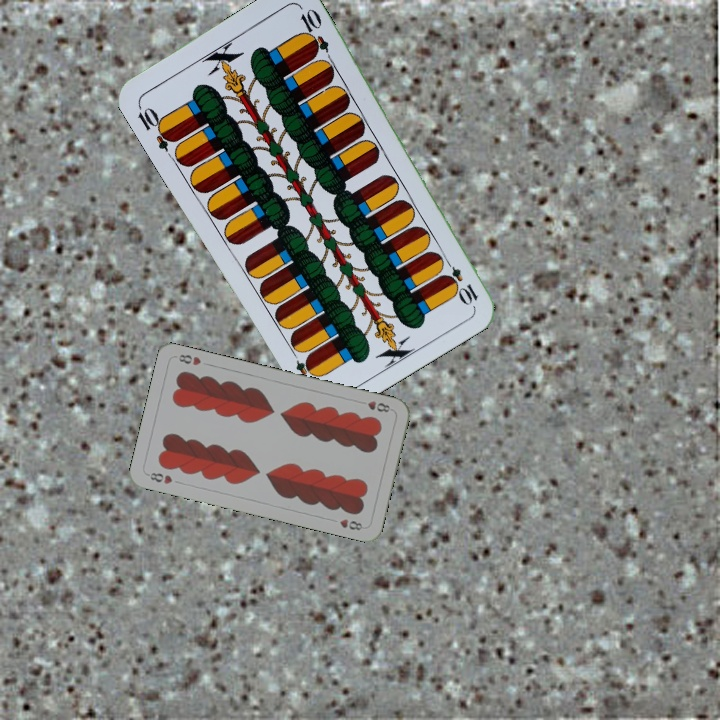E10: (133, 100, 179, 154), (438, 253, 481, 307)
H8: (355, 397, 392, 415), (143, 468, 175, 487)
